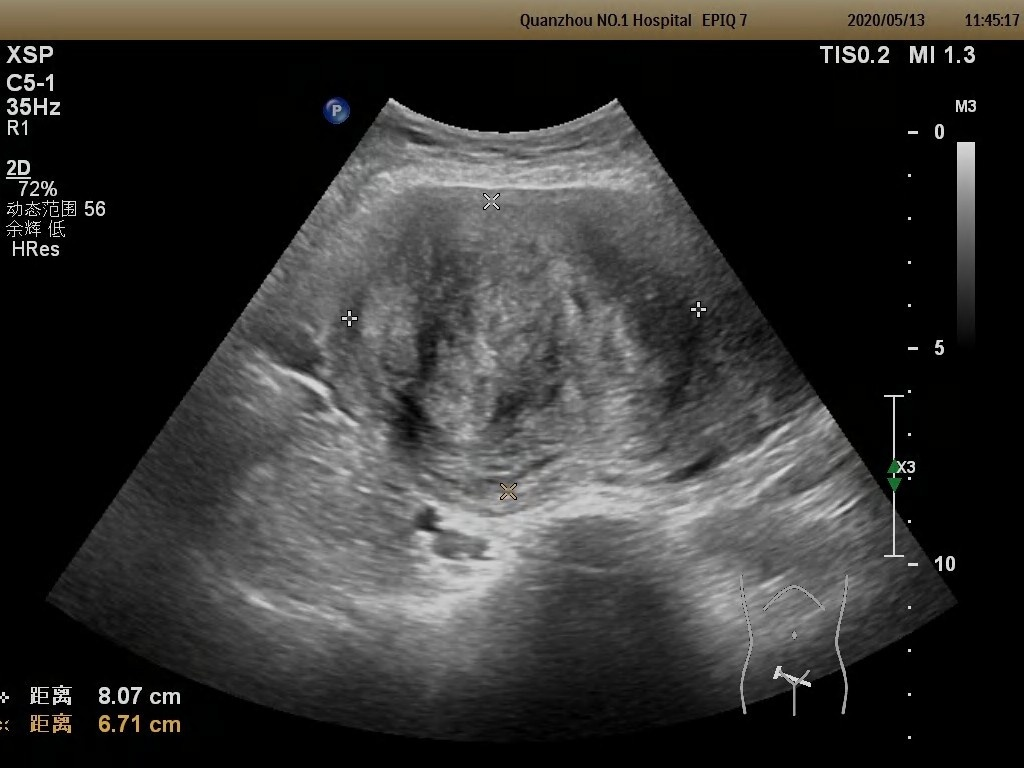肌瘤: (377, 217, 663, 466)
